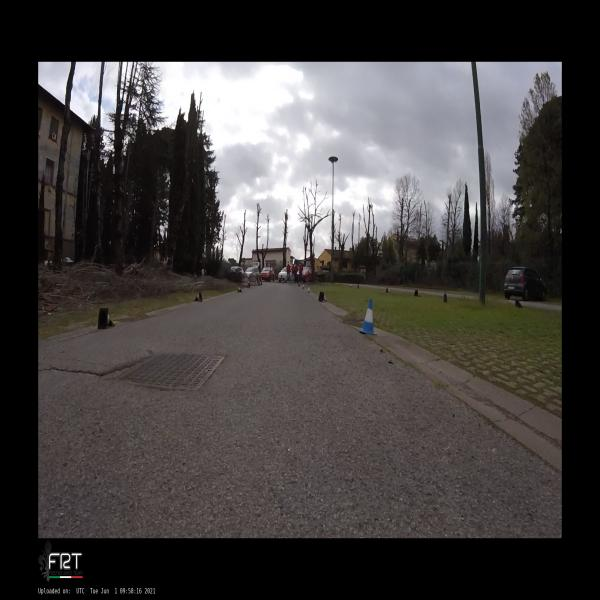blue_cone: (359, 299, 377, 335), (318, 292, 327, 302), (307, 286, 310, 293), (302, 284, 305, 290)
unknown_cone: (515, 299, 523, 308), (443, 290, 448, 302), (414, 289, 421, 297), (386, 288, 390, 293), (357, 283, 359, 289)
yellow_cone: (98, 308, 116, 329), (193, 292, 203, 302), (237, 286, 243, 292)
